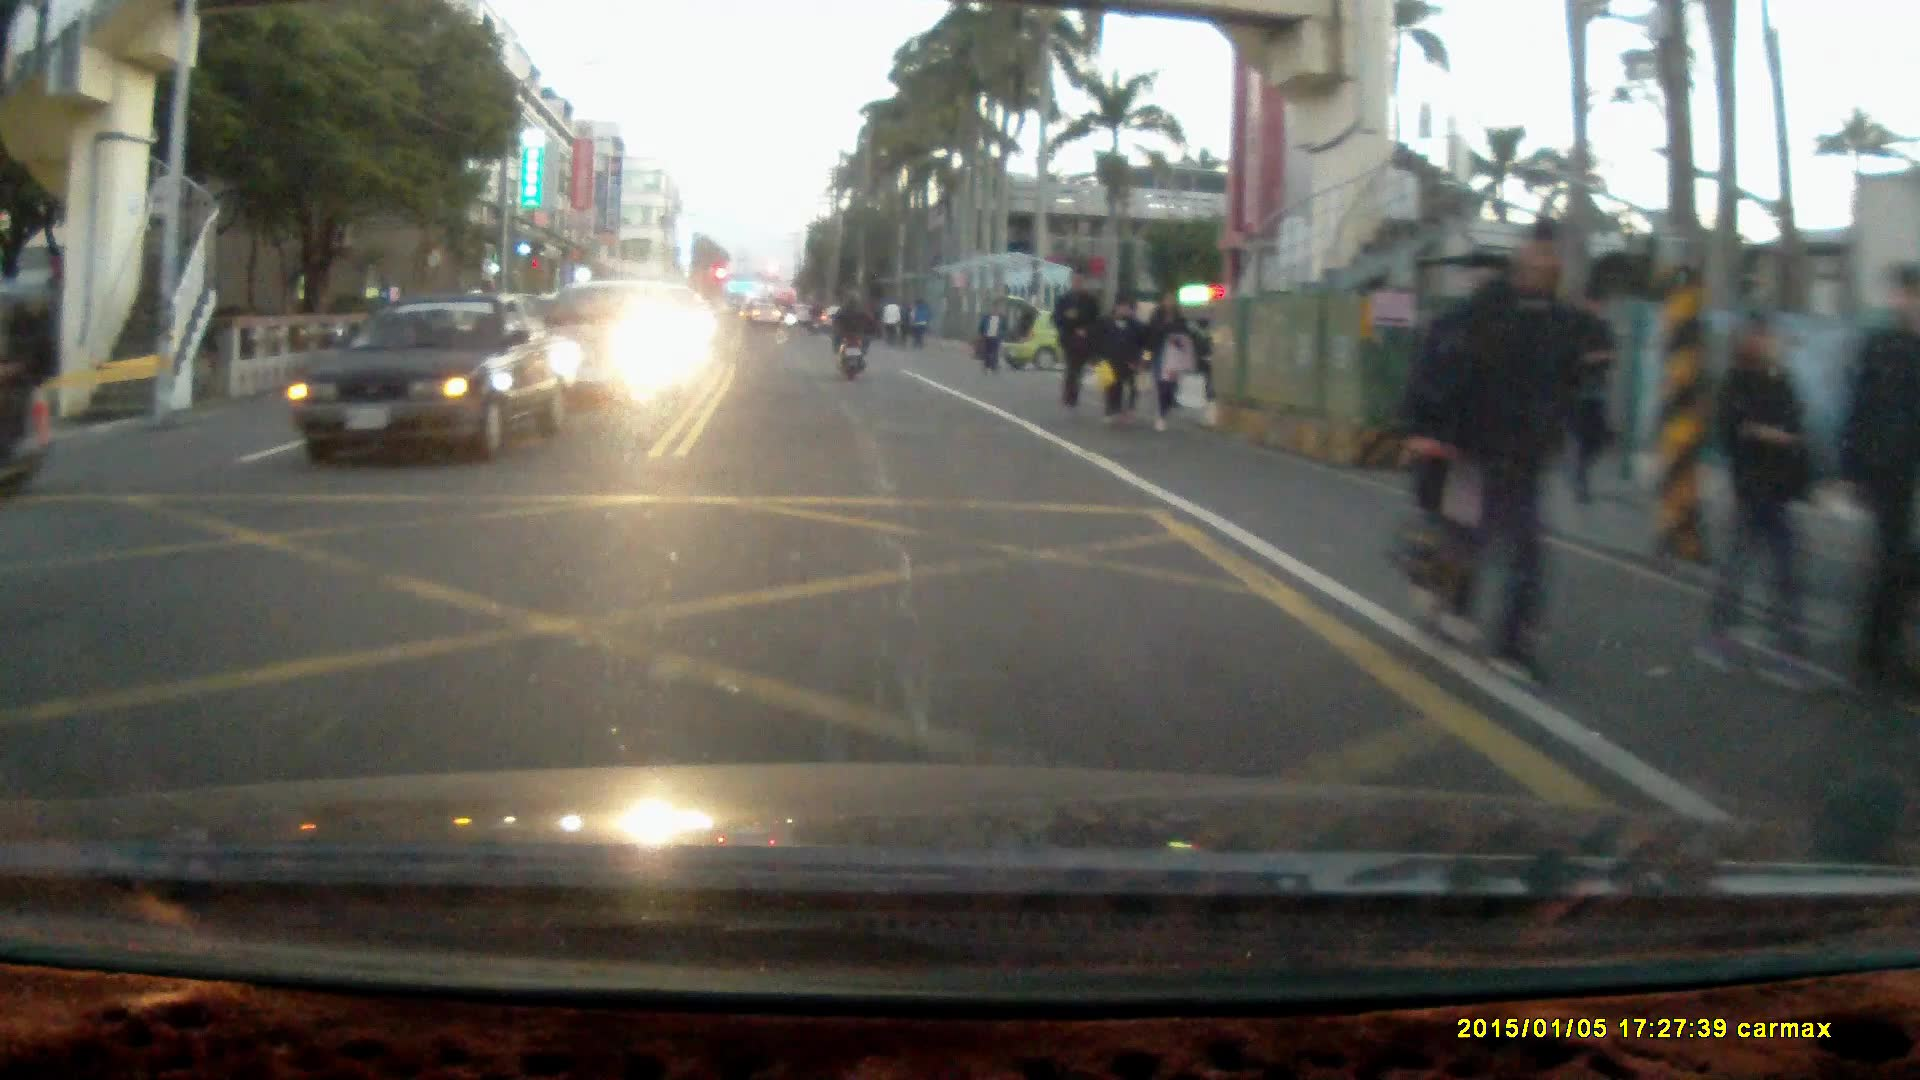pedestrian: (1421, 209, 1585, 699), (1694, 309, 1822, 697), (1833, 263, 1920, 699), (1558, 285, 1618, 509), (1050, 268, 1100, 421), (1141, 285, 1193, 428), (1095, 294, 1146, 421), (974, 299, 1002, 376)
rider: (0, 276, 61, 505), (828, 288, 870, 381)
vehicle: (284, 296, 580, 462), (529, 279, 697, 406), (992, 307, 1151, 375)
